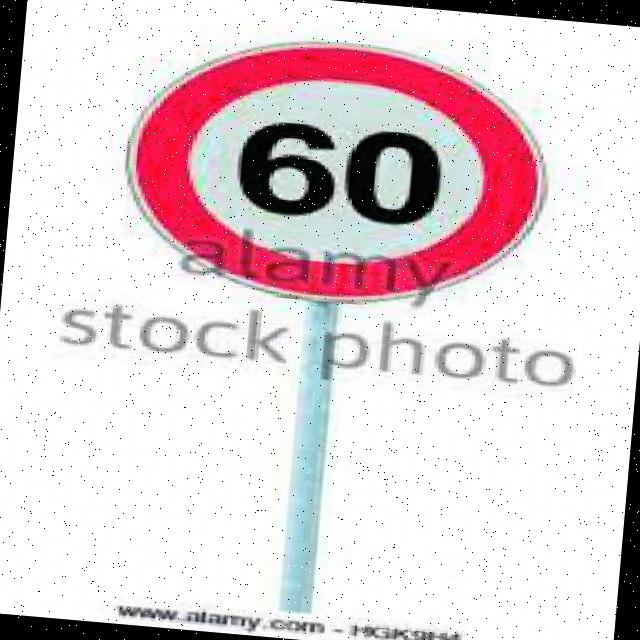Ograniczenie predkosci do 60: (118, 31, 562, 320)
